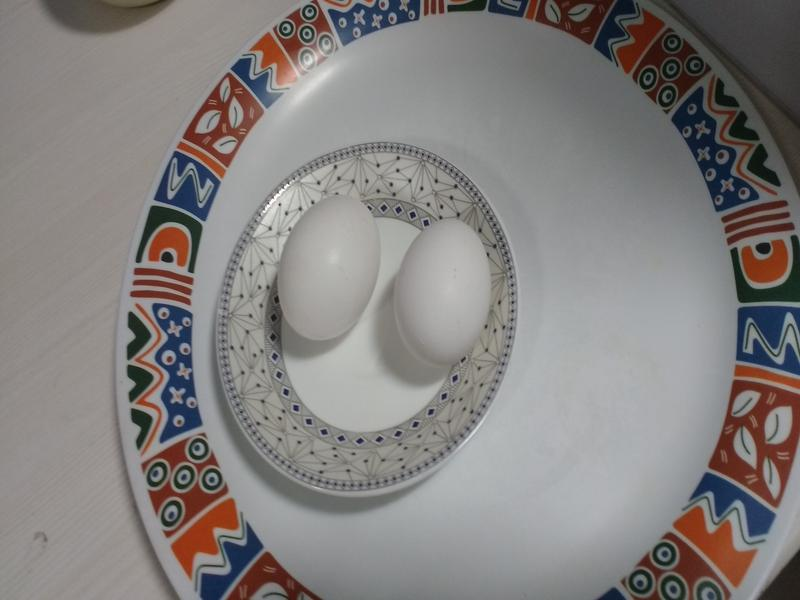egg: (279, 196, 377, 345)
